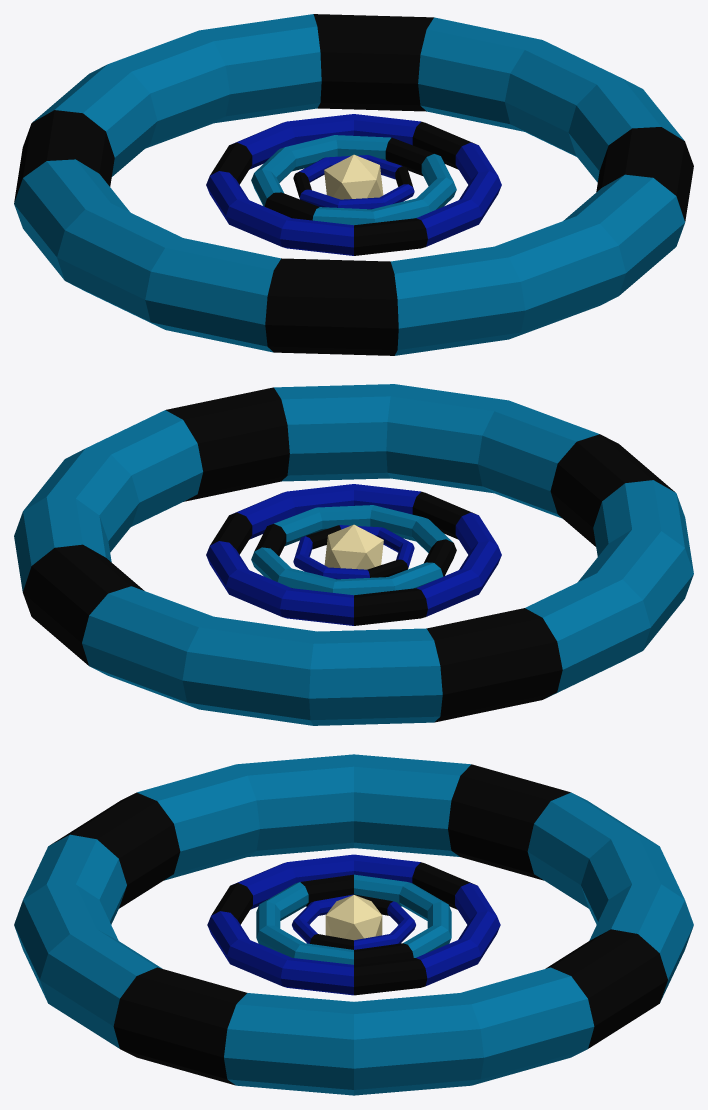
The model's file is sentinel_blue.fbx.
3 views of the same model, one above another, from view 1: azimuth 30°, elevation 25°; view 2: azimuth 150°, elevation 25°; view 3: azimuth 270°, elevation 25° (orthographic).
Visible parts, largest first — view 1: Torus.008, Torus.003, Torus.001, Torus, Icosphere; view 2: Torus.008, Torus.003, Torus.001, Torus, Icosphere; view 3: Torus.008, Torus.003, Torus.001, Torus, Icosphere.
Part boxes in pixels (left/top/right/bottom): Torus.008: left=14, top=14, right=693, bottom=355; Torus.003: left=206, top=114, right=501, bottom=255; Torus.001: left=251, top=135, right=456, bottom=225; Torus: left=293, top=155, right=414, bottom=209; Icosphere: left=324, top=154, right=383, bottom=199; Torus.008: left=14, top=384, right=693, bottom=725; Torus.003: left=206, top=484, right=501, bottom=625; Torus.001: left=251, top=505, right=456, bottom=595; Torus: left=293, top=525, right=414, bottom=579; Icosphere: left=324, top=524, right=383, bottom=569; Torus.008: left=14, top=754, right=693, bottom=1095; Torus.003: left=207, top=854, right=500, bottom=995; Torus.001: left=256, top=874, right=451, bottom=964; Torus: left=292, top=894, right=415, bottom=949; Icosphere: left=325, top=895, right=382, bottom=940.
Size of the model in its own units: 473 by 62.42 by 473.
